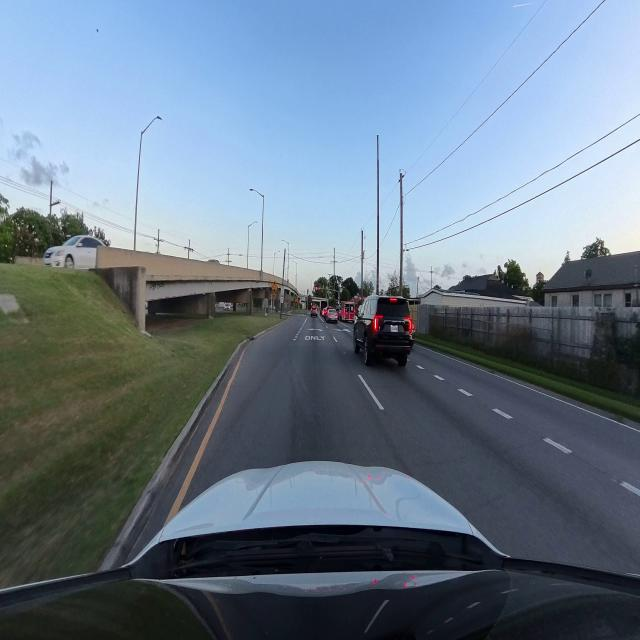car: (0, 462, 639, 639), (354, 296, 414, 366), (44, 236, 104, 268), (326, 308, 338, 323), (311, 306, 317, 317)
